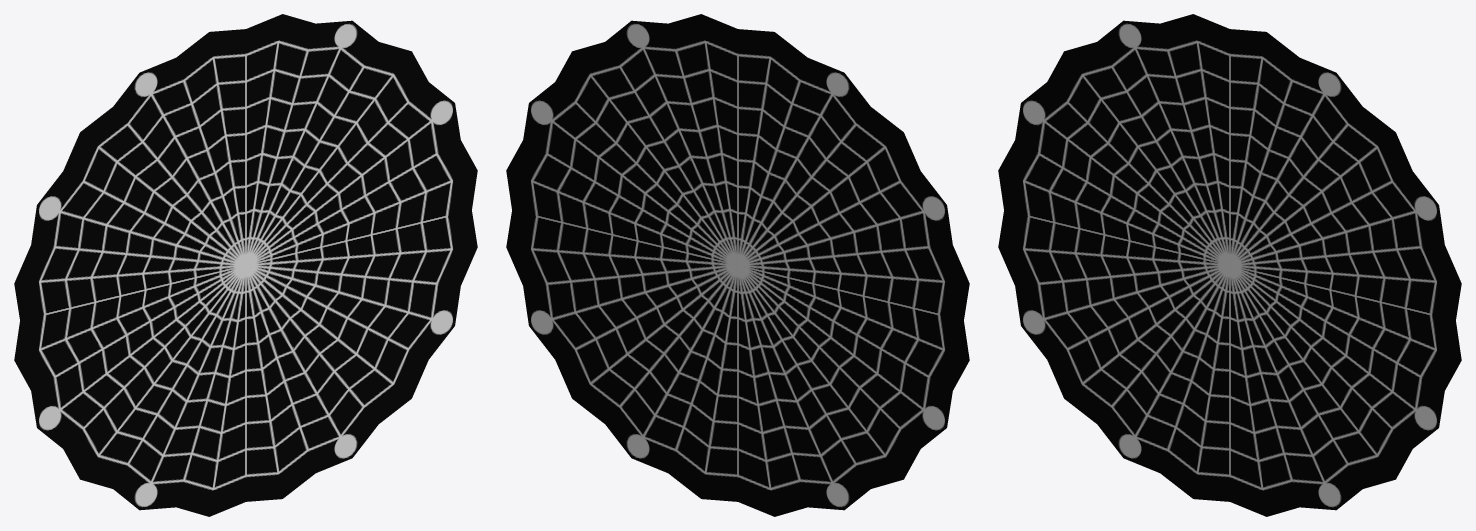
Rendered from yuwang.FBX.
The picture shows the model from 3 angles, left to right: view 1: azimuth 30°, elevation 25°; view 2: azimuth 150°, elevation 25°; view 3: azimuth 330°, elevation 25°; orthographic projection.
Parts seen in each view (by area): view 1: yuwang; view 2: yuwang; view 3: yuwang.
Boxes of the visible parts, bbox=[...] form: yuwang: bbox=[14, 14, 477, 516]; yuwang: bbox=[506, 14, 969, 516]; yuwang: bbox=[998, 14, 1461, 516].
Bounding box in the file's own units: 253 × 253 × 3.05e-05.
